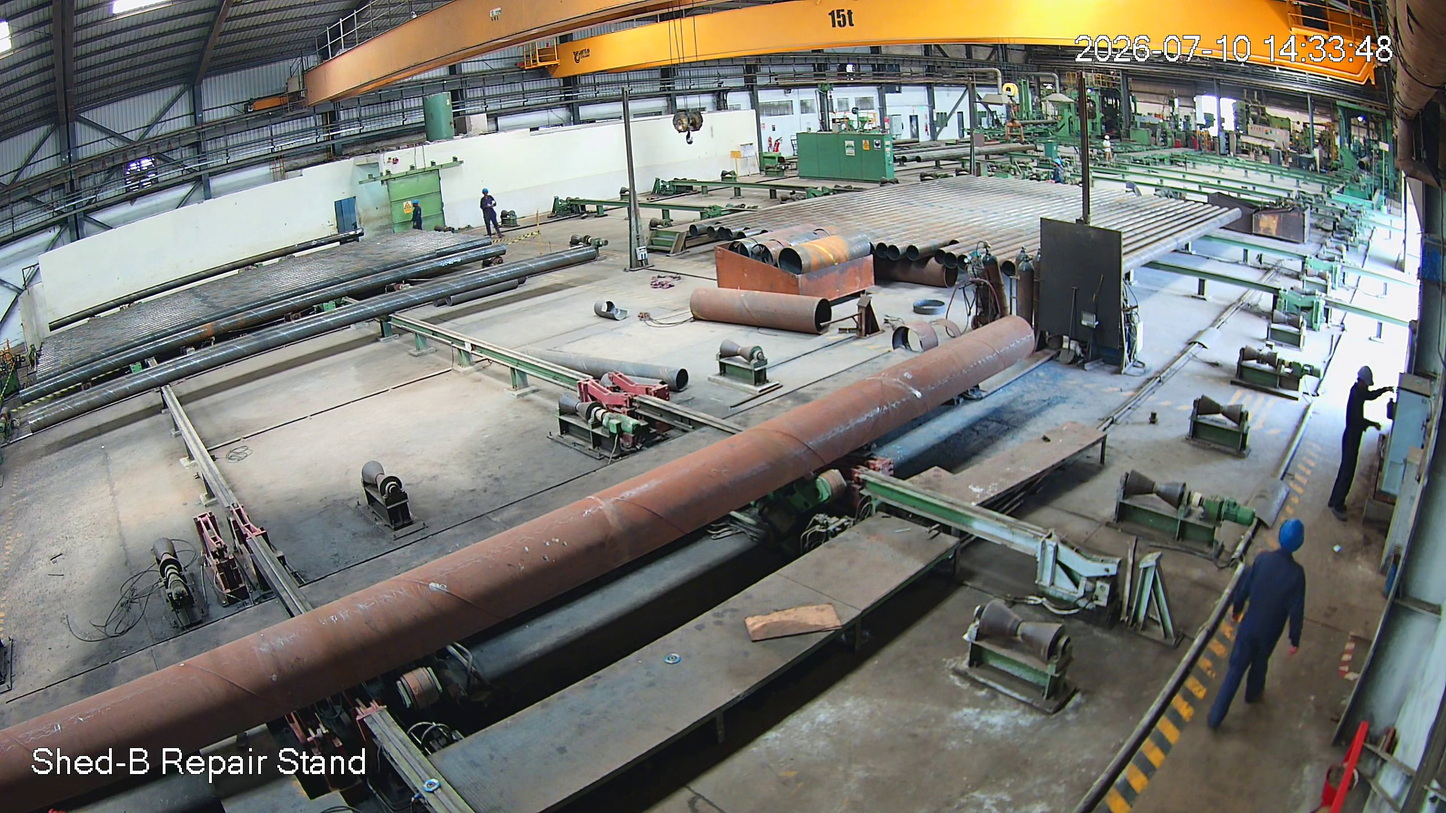Helmet: (1264, 509, 1316, 565), (1348, 357, 1385, 402), (479, 187, 491, 198)
Person: (1192, 517, 1322, 763), (1331, 363, 1387, 526), (477, 189, 504, 239), (408, 197, 427, 230)
